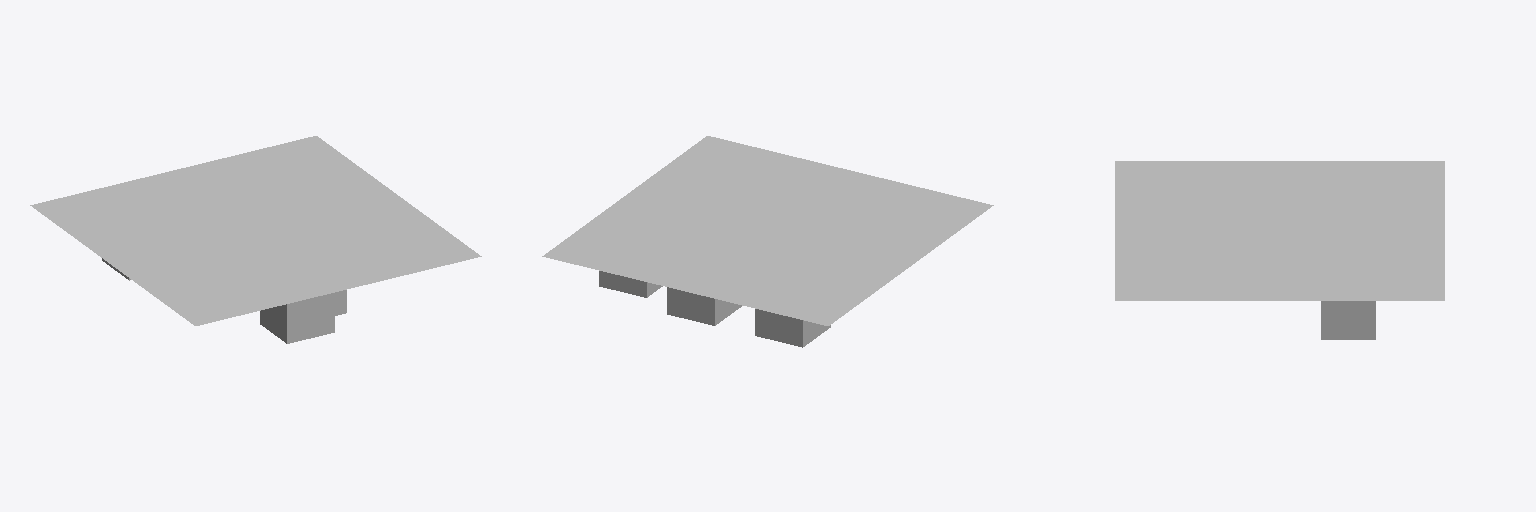
File: CubeScene.obj
3 renders of one model, left to right at view 1: azimuth 30°, elevation 25°; view 2: azimuth 150°, elevation 25°; view 3: azimuth 270°, elevation 25°, orthographic.
Parts seen in each view (by area): view 1: Plane, Cube.001; view 2: Plane, Cube, Cube.003, Cube.002; view 3: Plane, Cube.002.
Boxes of the visible parts, box(x1,y1,x2,y2) form: Plane: box(30, 136, 481, 325); Cube.001: box(260, 290, 346, 343); Plane: box(542, 136, 993, 325); Cube: box(755, 309, 830, 347); Cube.003: box(667, 287, 741, 325); Cube.002: box(599, 271, 662, 297); Plane: box(1115, 161, 1444, 300); Cube.002: box(1321, 301, 1375, 339).
Bounding box in the file's own units: 12 × 2 × 12.